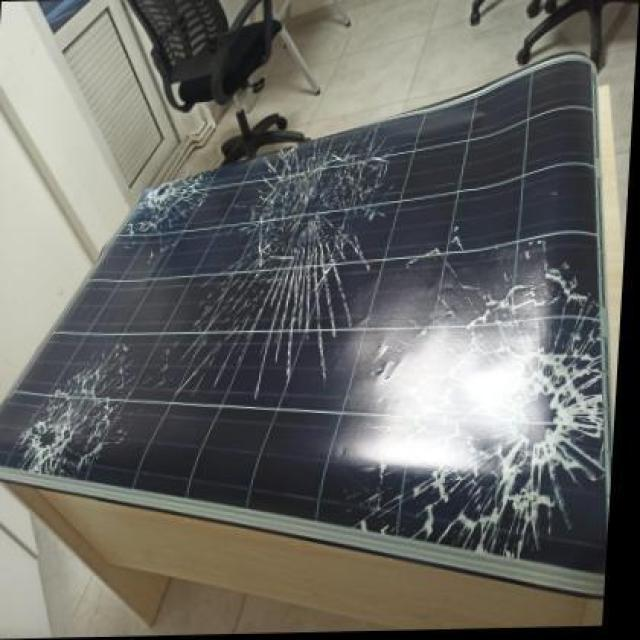cracked: (32, 82, 602, 567)
